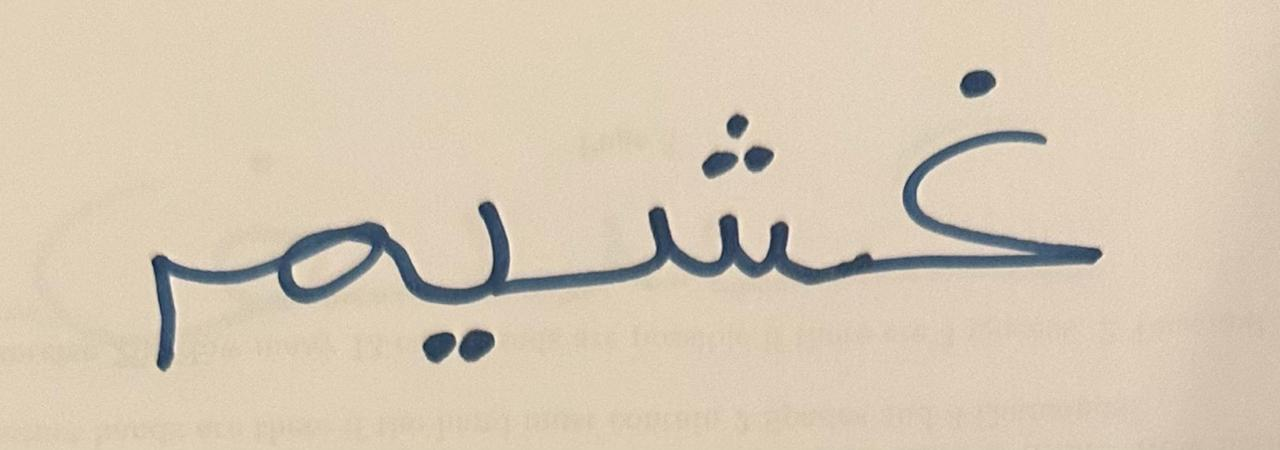ghain: (833, 36, 1153, 365)
noon: (88, 115, 382, 421)
tah: (548, 29, 830, 381)
zah: (387, 104, 544, 406)
